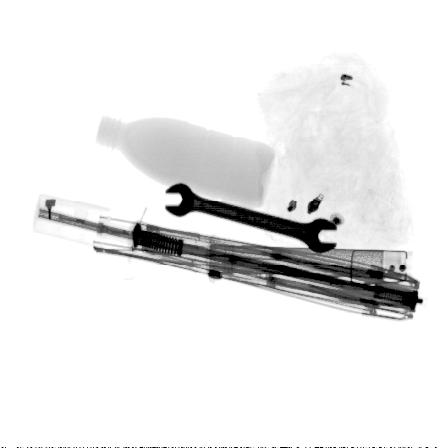Wrench: (164, 183, 340, 257)
